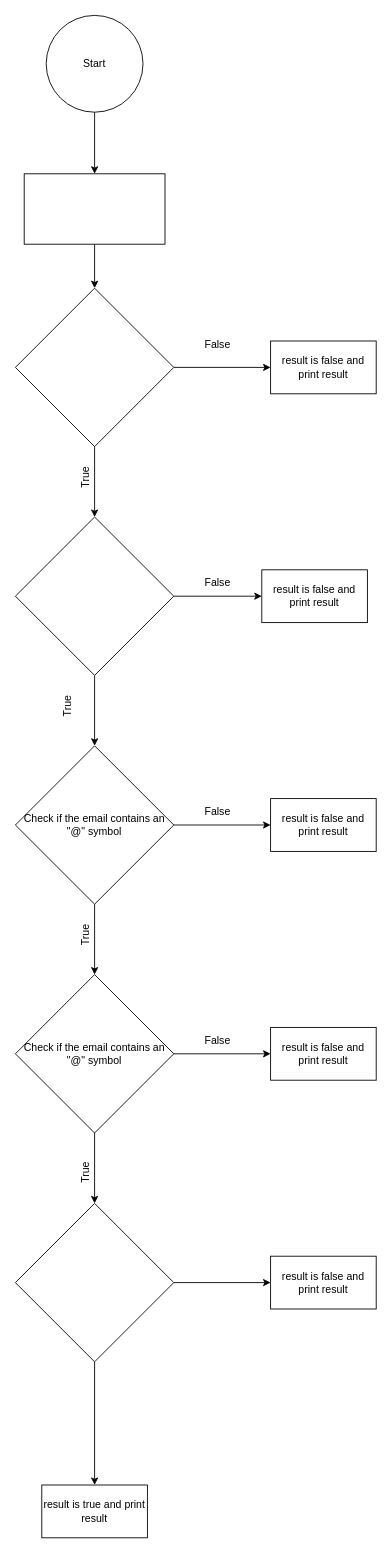
This 392x1553 diagram has some shape labels left out. The box of each missing label's shape, as (x1, y1, x2, y2) in pixels:
Ask user for email input: (23, 173, 165, 244)
Check if the email contains a dot after the @ symbol.: (15, 1203, 174, 1362)
Check if the email is between 5 and 30 characters long: (15, 516, 174, 675)
Check if the first letter of the email is in the alphabet: (15, 287, 174, 447)
